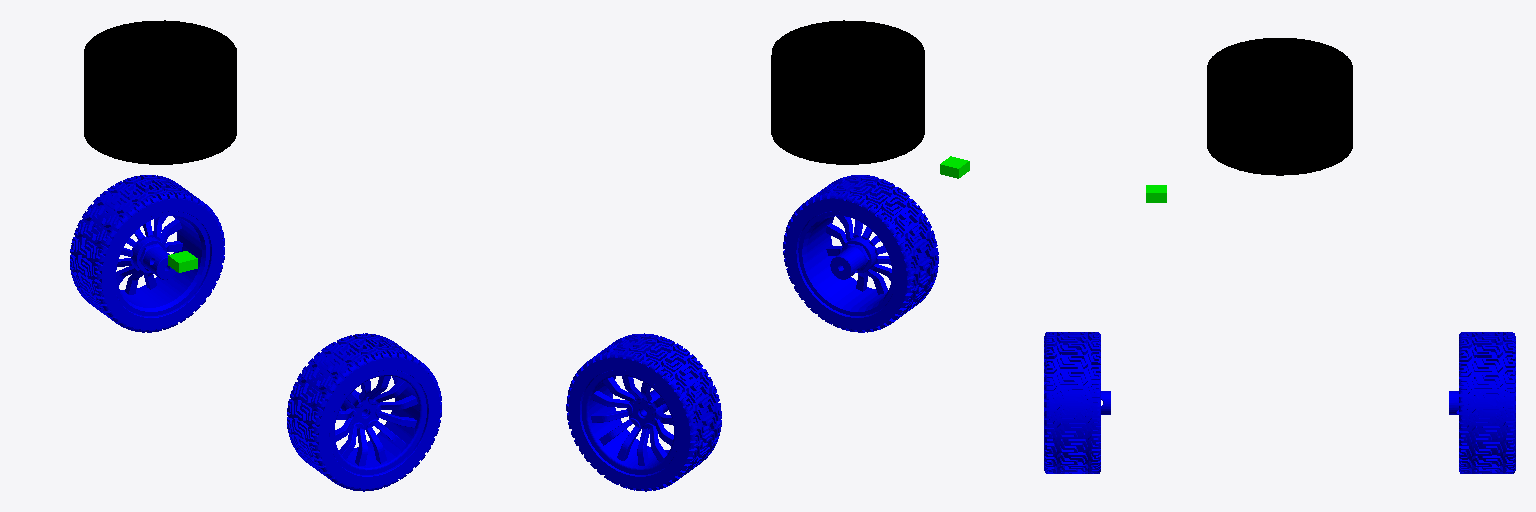
robot.urdf — uiabot_mini:
<?xml version="1.0"?>
<robot name="uiabot_mini">

  <!-- Links -->
  <link name="base_link">
    <visual>
      <geometry>
        <mesh filename="package://uiabot_mini_description/meshes/base_link.STL"/>
      </geometry>
      <origin xyz="0 0 0" rpy="0 0 0"/>
      <material name="gray">
        <color rgba="0.6 0.6 0.6 1.0"/>
      </material>
    </visual>
  </link>

  
  <link name="wheel_right_link">
    <visual>
      <geometry>
        <mesh filename="package://uiabot_mini_description/meshes/wheel.STL"/>
      </geometry>
      <origin xyz="0 0 0" rpy="3.141592653589793 0 0"/>
      <material name="blue">
        <color rgba="0 0 1 1"/>
      </material>
    </visual>
  </link>

<link name="wheel_left_link">
    <visual>
      <geometry>
        <mesh filename="package://uiabot_mini_description/meshes/wheel.STL"/>
      </geometry>
      <origin xyz="0 0 0" rpy="0 0 0"/>
      <material name="blue">
        <color rgba="0 0 1 1"/>
      </material>
    </visual>
  </link>

  <joint name="joint_wheel_right" type="continuous">
    <parent link="base_link"/>
    <child link="wheel_right_link"/>
    <origin xyz="0.00060024 -0.09875  0.0339981720062555 " rpy="-1.5707963267948966 0 0"/>
    <axis xyz="0 0 1"/>
  </joint>

  <joint name="joint_wheel_left" type="continuous">
    <parent link="base_link"/>
    <child link="wheel_left_link"/>
    <origin xyz="0.00060024 0.09875 0.0339981720062555" rpy="-1.5707963267948966 0 0"/>
    <axis xyz="0 0 1"/>
  </joint>


  <!-- IMU (BNO055) Link -->
  <link name="bno055">
    <visual>
      <geometry>
        <box size="0.01 0.01 0.005"/>
      </geometry>
      <material name="green">
        <color rgba="0 1 0 1"/>
      </material>
    </visual>
  </link>

  <joint name="joint_bno055" type="fixed">
    <parent link="base_link"/>
    <child link="bno055"/>
    <origin xyz="-71.75e-3 -58.75e-3 110.35e-3" rpy="0 0 0"/>
  </joint>

  <!-- Laser (RPLidar A1) Link -->
  <link name="laser">
    <visual>
      <geometry>
        <cylinder radius="0.035" length="0.04"/>
      </geometry>
      <material name="black">
        <color rgba="0 0 0 1"/>
      </material>
    </visual>
  </link>

  <joint name="joint_laser" type="fixed">
    <parent link="base_link"/>
    <child link="laser"/>
    <origin xyz="-49.66e-3 0.0 166.5e-3" rpy="0 0 0"/>
  </joint>

</robot>

--- What the picture shows (computed from the rendered views, not written in the file) ---
3 views of the same robot in one strip: view 1: azimuth 30°, elevation 25°; view 2: azimuth 150°, elevation 25°; view 3: azimuth 270°, elevation 25° (orthographic).
Model uiabot_mini with 5 links and 4 joints (2 continuous, 2 fixed), rooted at base_link, posed all joints at 0.
Links seen in each view (by area): view 1: laser, wheel_right_link, wheel_left_link; view 2: laser, wheel_right_link, wheel_left_link; view 3: laser, wheel_left_link, wheel_right_link.
Boxes of the visible links, <box> form: laser: <box>84,20,236,164</box>; wheel_right_link: <box>287,333,441,491</box>; wheel_left_link: <box>70,175,224,332</box>; laser: <box>771,20,924,164</box>; wheel_right_link: <box>783,175,938,332</box>; wheel_left_link: <box>566,333,721,491</box>; laser: <box>1207,38,1352,175</box>; wheel_left_link: <box>1449,332,1515,473</box>; wheel_right_link: <box>1044,332,1110,473</box>.
Bounding box of the posed robot: 0.1193 × 0.2245 × 0.1865 m (x, y, z).
2 mesh visuals loaded from 2 distinct referenced files (1 binary STL); not drawn: 1 (reference not matched to a file when rendering).